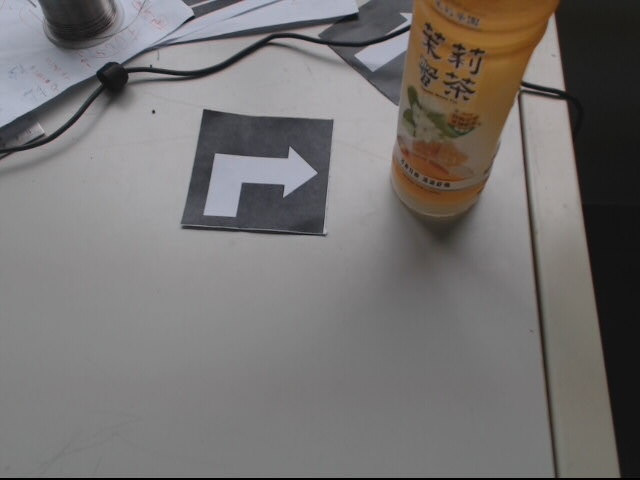right: (181, 106, 336, 236)
